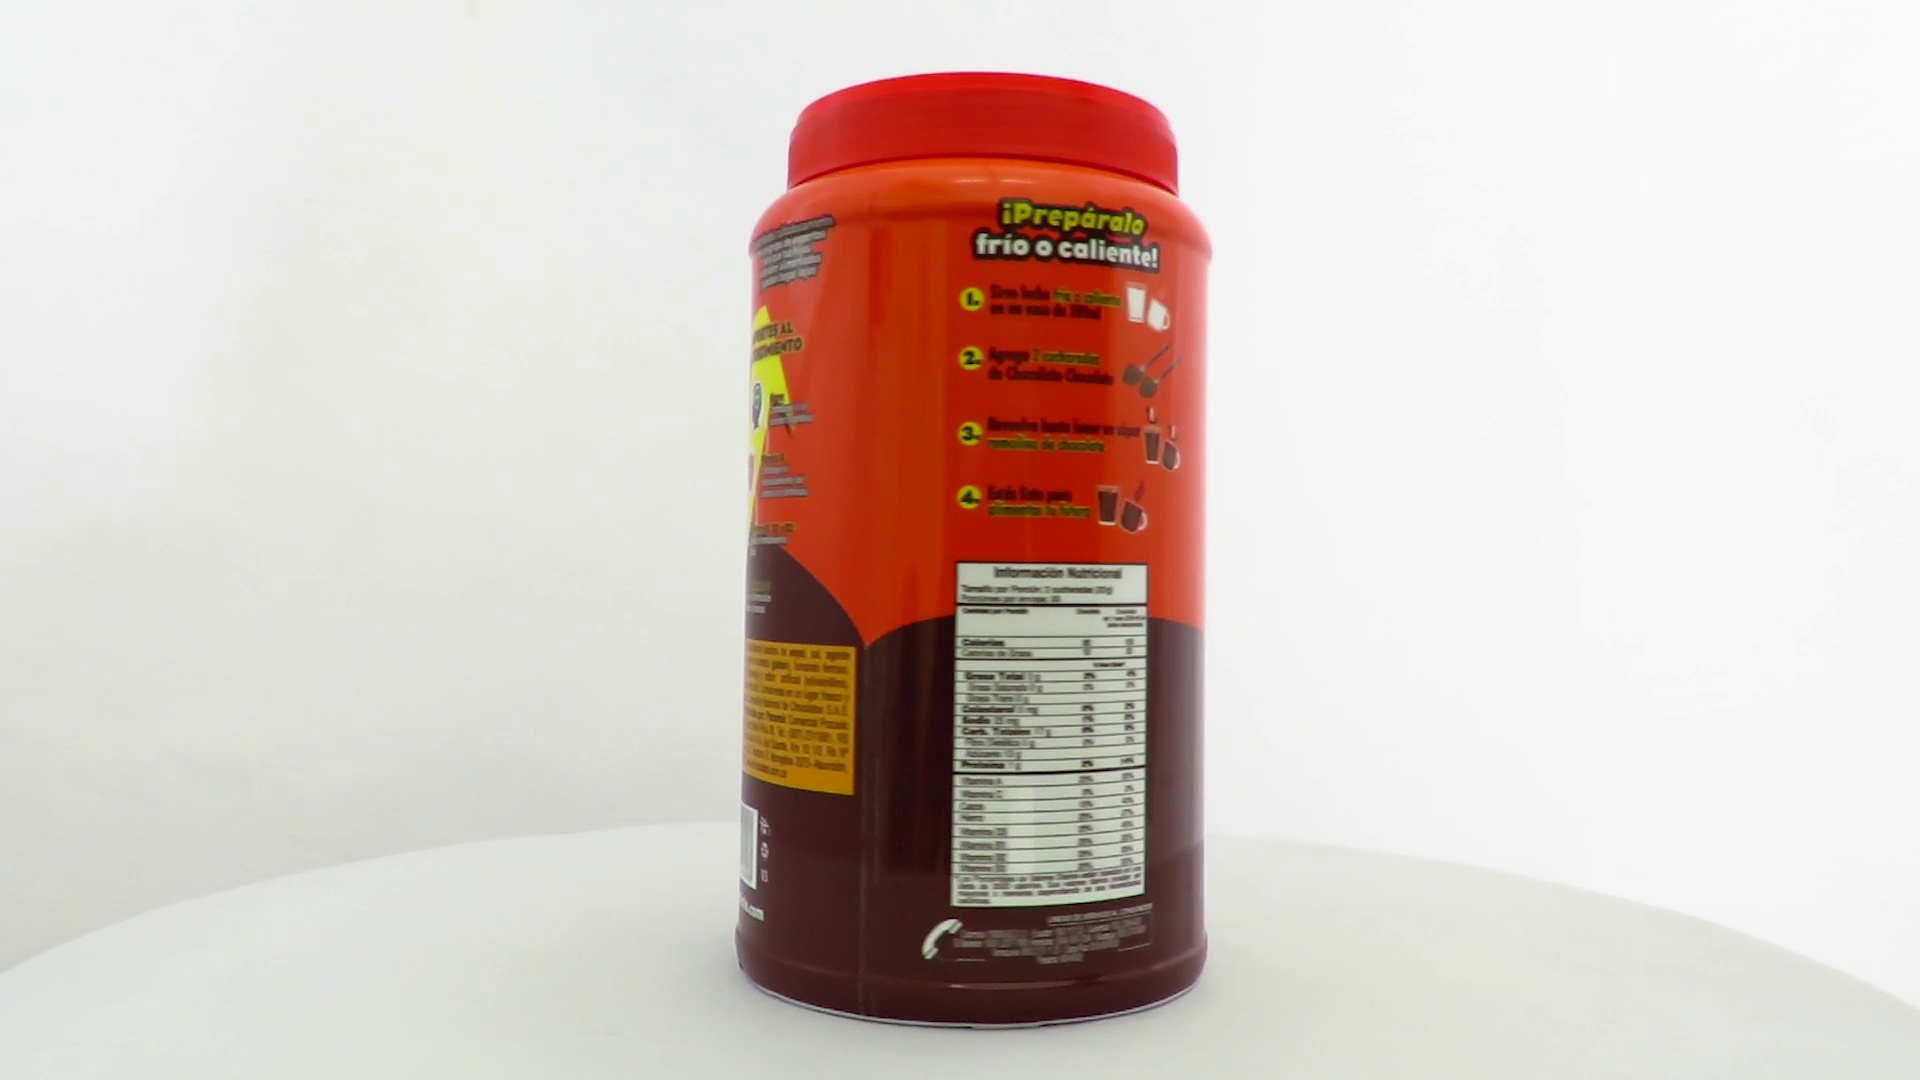COL0170103TRR00100: (729, 66, 1215, 1036)
